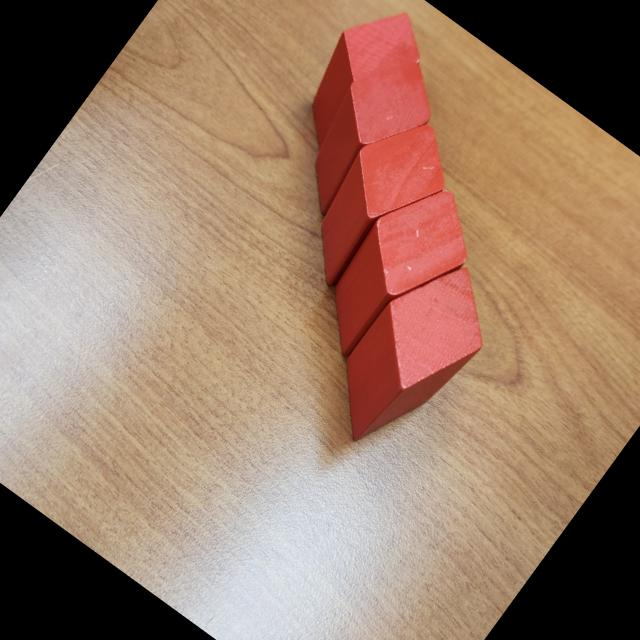red: (346, 268, 481, 440), (333, 190, 466, 358), (318, 124, 443, 284), (313, 64, 431, 216), (310, 12, 419, 149)
